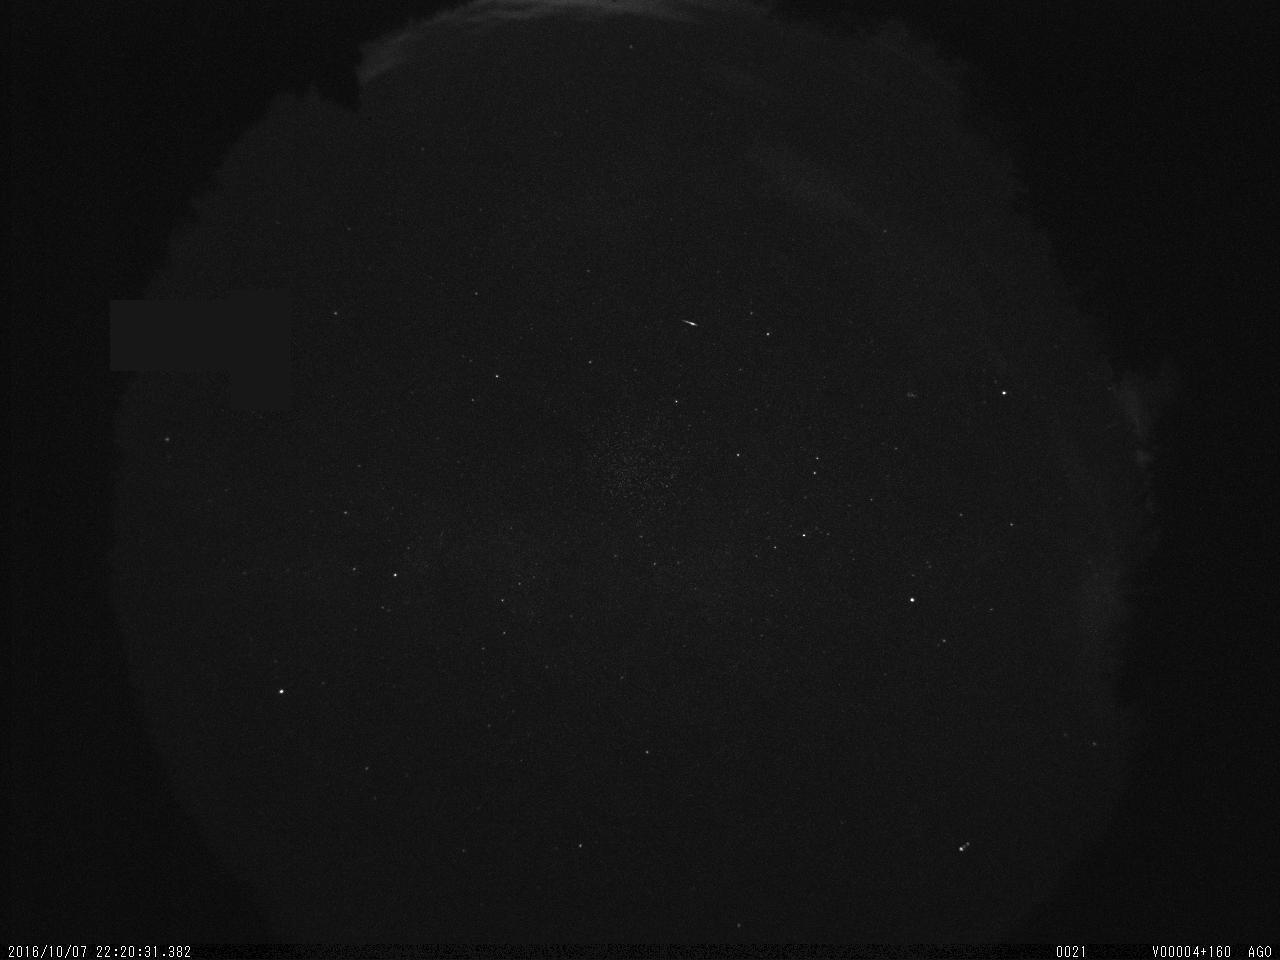Meteor: (680, 315, 699, 330)
